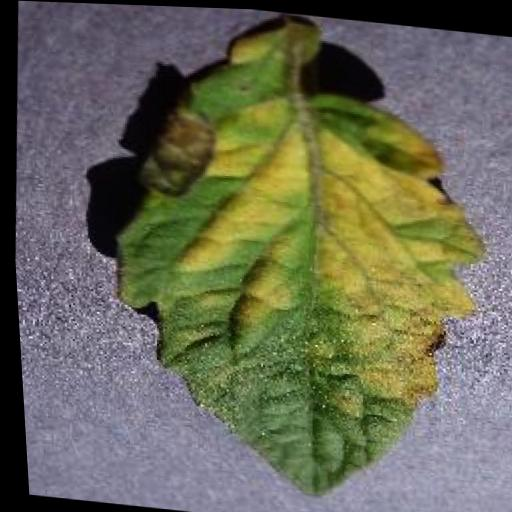Leaf Mold: (80, 2, 510, 512)
